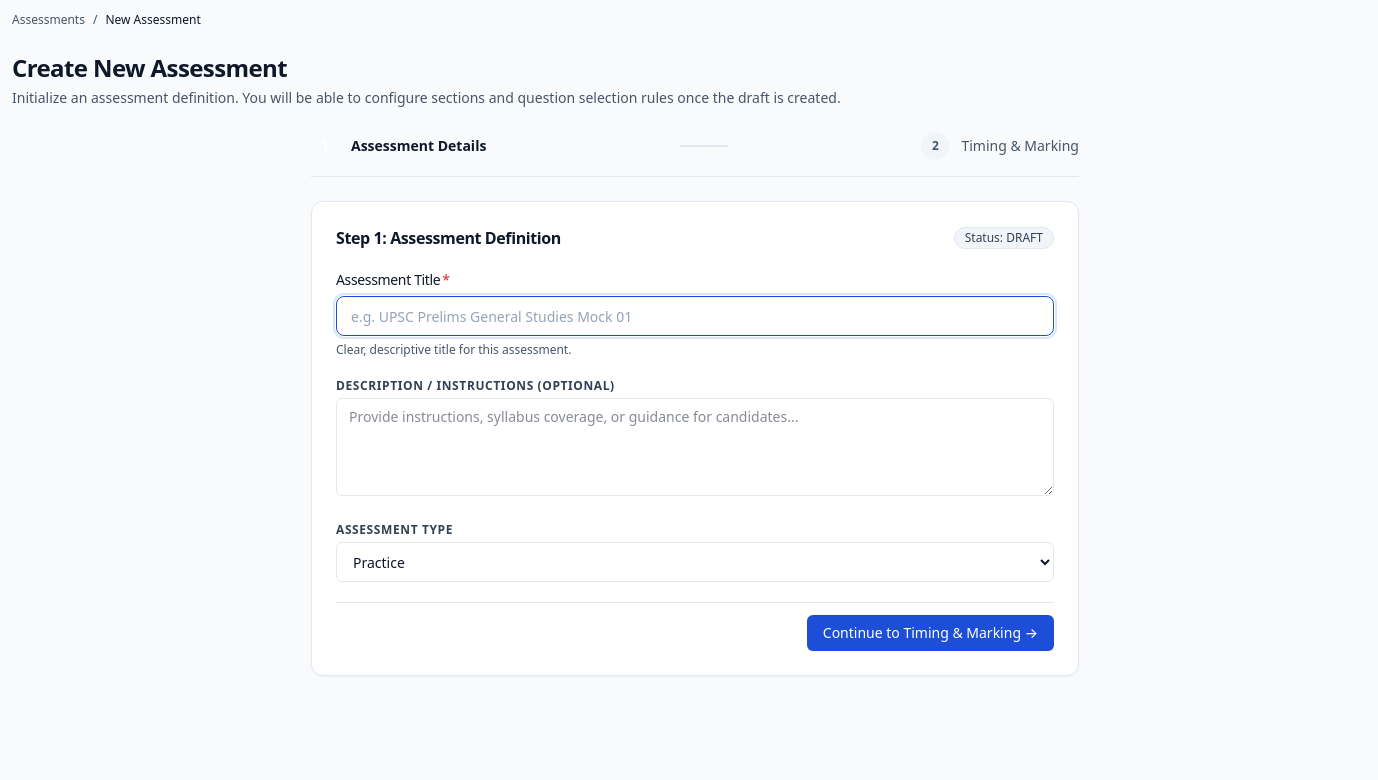
Test: Assessment Pages › AdminAssessmentCreatePage › renders wizard step 1 and navigates to step 2
Expected: the heading "Create New Assessment" is shown, [12, 51, 287, 84]
Type "Environment Practice Test" into the field labelled "Assessment Title*" at (695, 316), box [336, 296, 1054, 336]
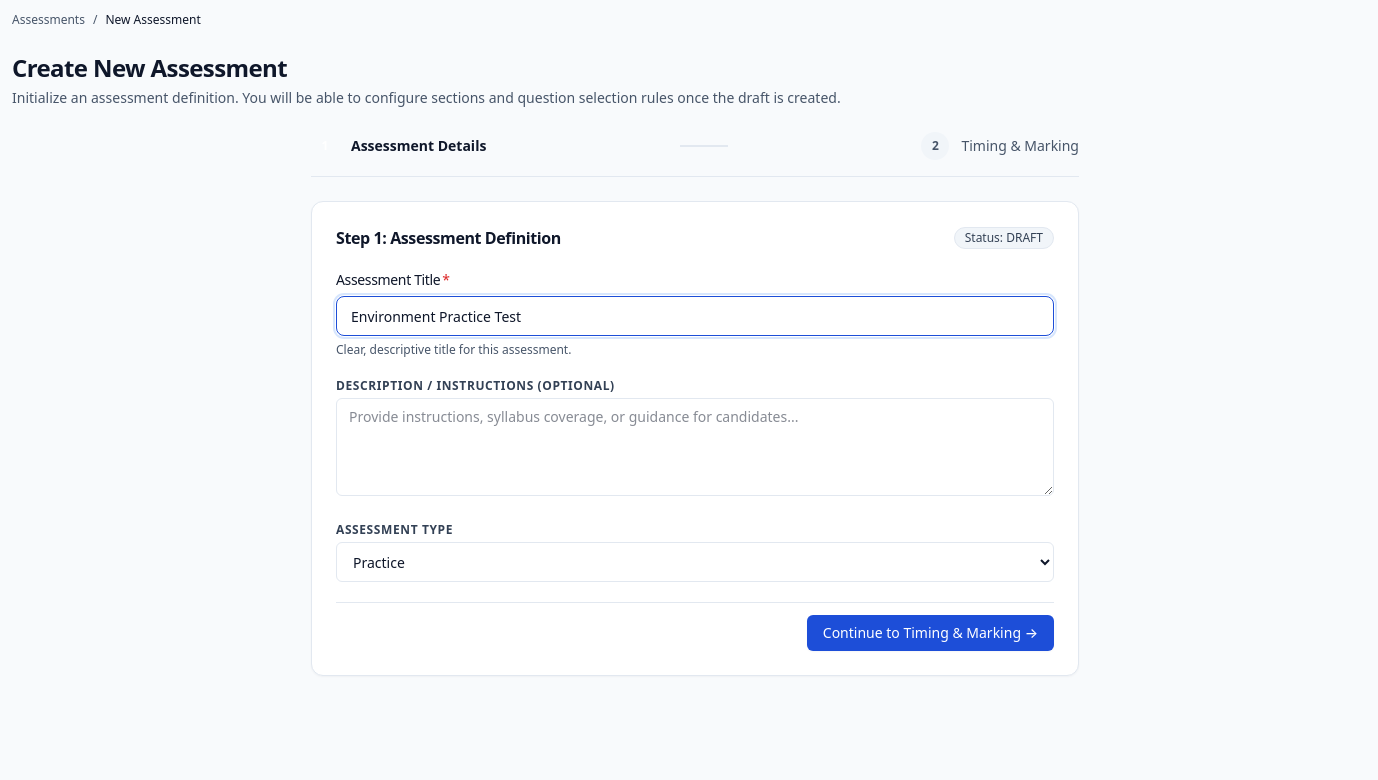
Click the button "Continue to Timing & Marking →" at (930, 633), box [807, 615, 1054, 651]
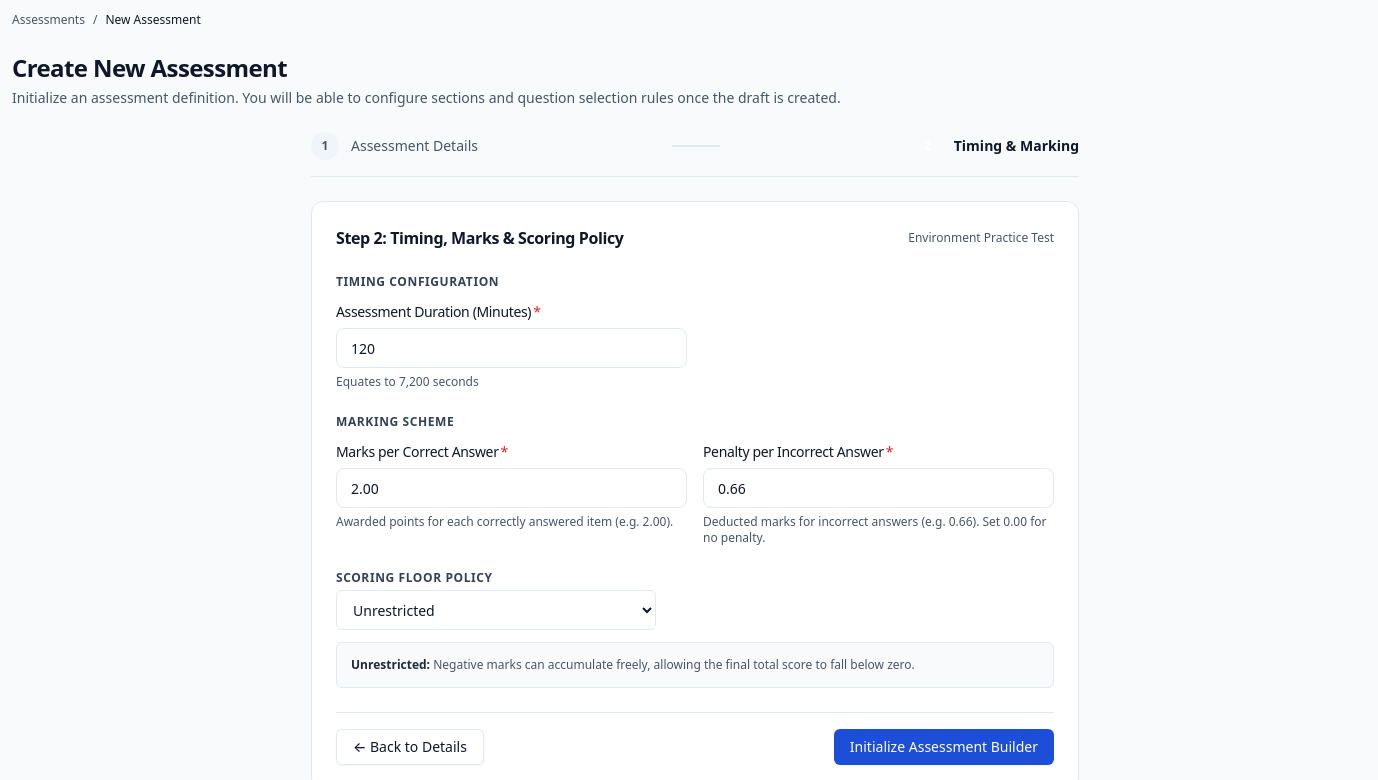
Now the heading "Step 2: Timing, Marks & Scoring Policy" is shown, box [336, 226, 623, 250]
